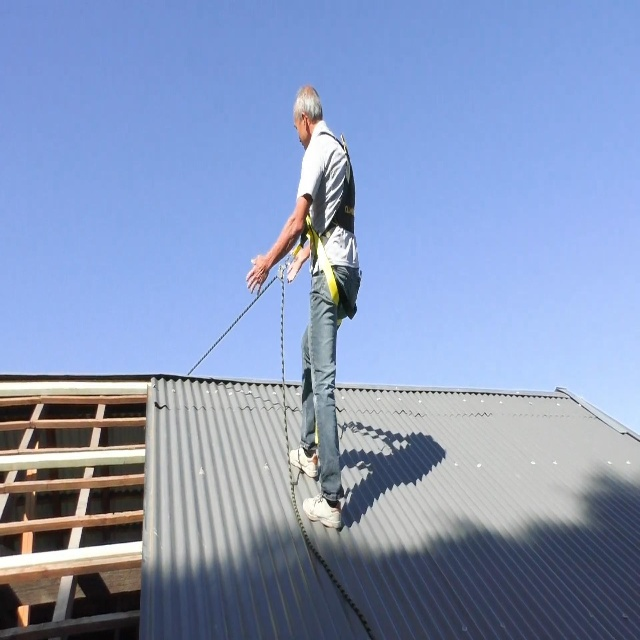Arnes_seguridad: (301, 126, 360, 333)
